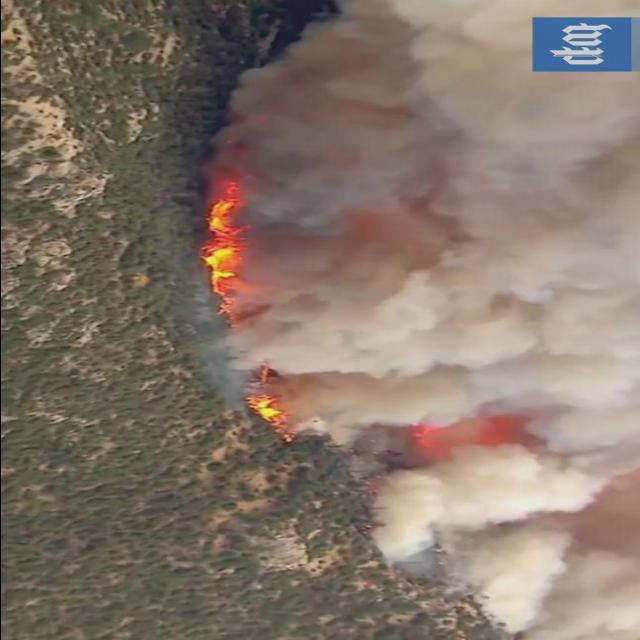Fire: (204, 180, 248, 322), (242, 394, 292, 440), (411, 427, 448, 445)
